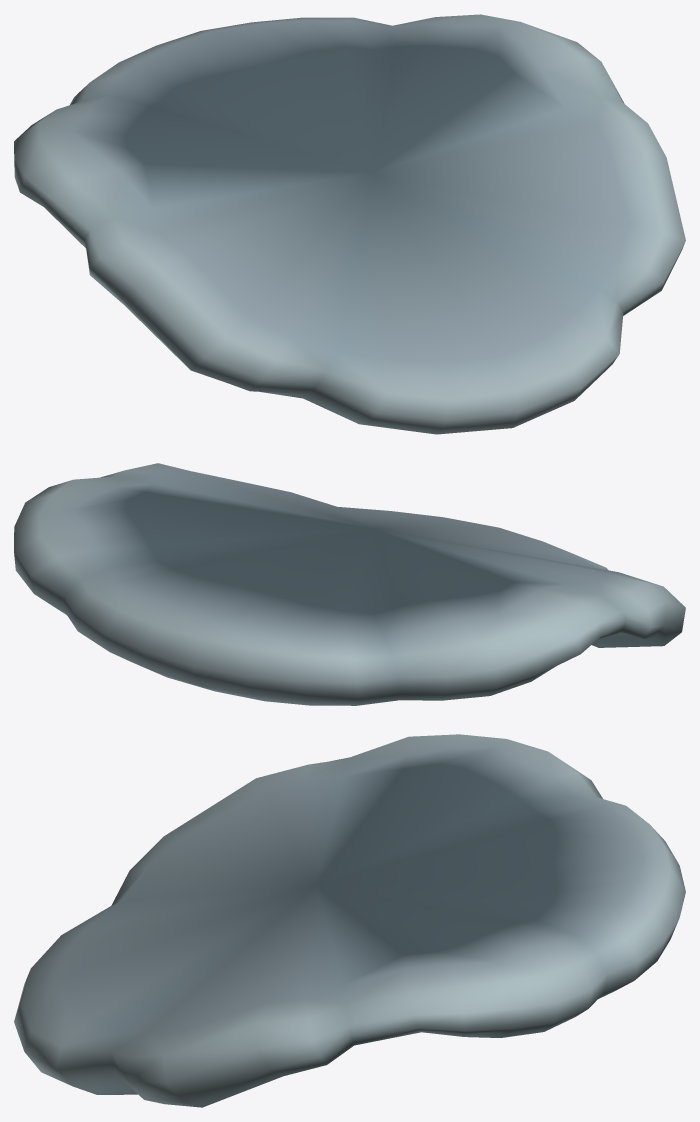
Rendered from Scarf_Wario.fbx.
3 views of the same model, one above another, from view 1: azimuth 30°, elevation 25°; view 2: azimuth 150°, elevation 25°; view 3: azimuth 270°, elevation 25° (orthographic). The views are drawn at different scales.
Visible parts, largest first — view 1: mesh-8; view 2: mesh-8; view 3: mesh-8.
Part boxes in pixels (bbox=[...]): mesh-8: bbox=[14, 14, 685, 434]; mesh-8: bbox=[14, 463, 685, 705]; mesh-8: bbox=[14, 734, 685, 1107].
Bounding box in the file's own units: 841 × 276 × 845.
